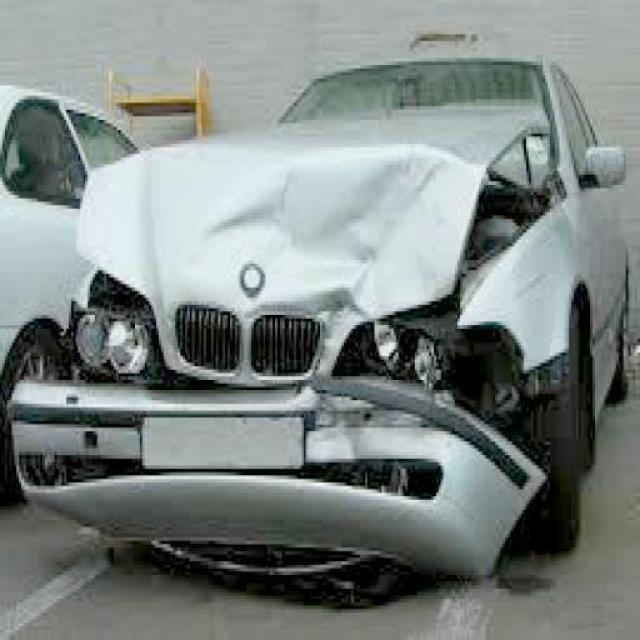car damage: (57, 133, 571, 535)
